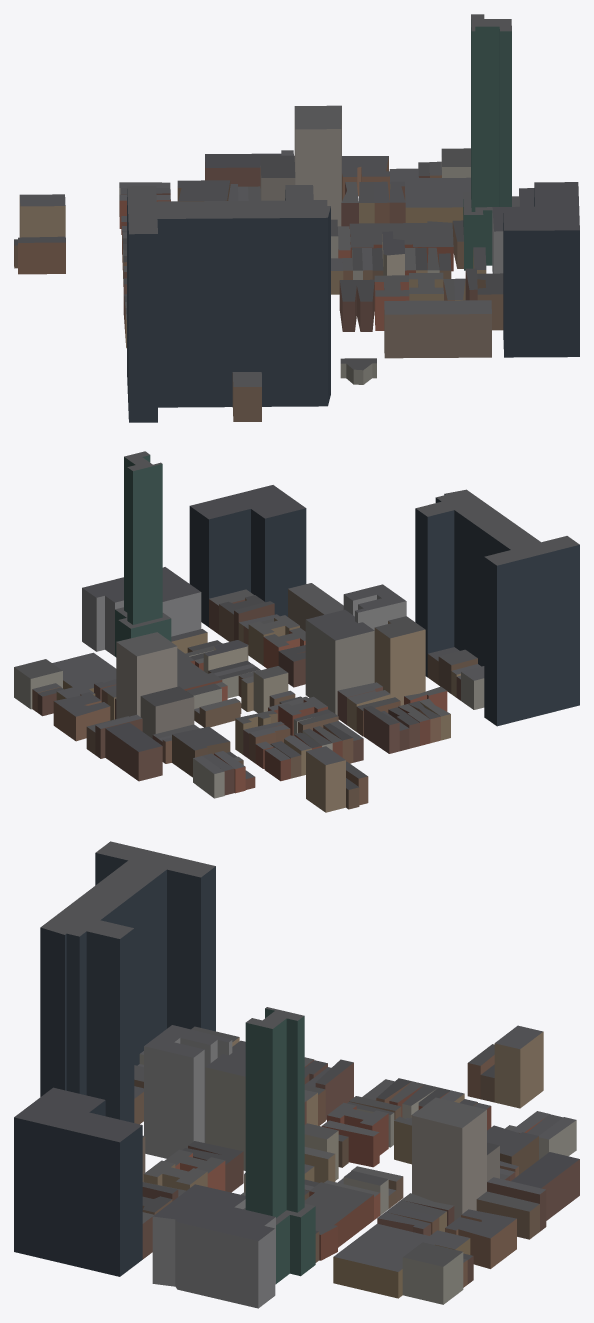
The model's file is -1_2.far.glb.
3 views of the same model, one above another, from view 1: azimuth 30°, elevation 25°; view 2: azimuth 150°, elevation 25°; view 3: azimuth 270°, elevation 25° (orthographic). The views are drawn at different scales.
Visible parts, largest first — view 1: -1_2_far; view 2: -1_2_far; view 3: -1_2_far.
Boxes of the visible parts, x1,y1,x2,y2 form: -1_2_far: [14, 14, 579, 422]; -1_2_far: [14, 451, 579, 812]; -1_2_far: [14, 841, 579, 1308].
Bounding box in the file's own units: 319 × 140 × 286.
